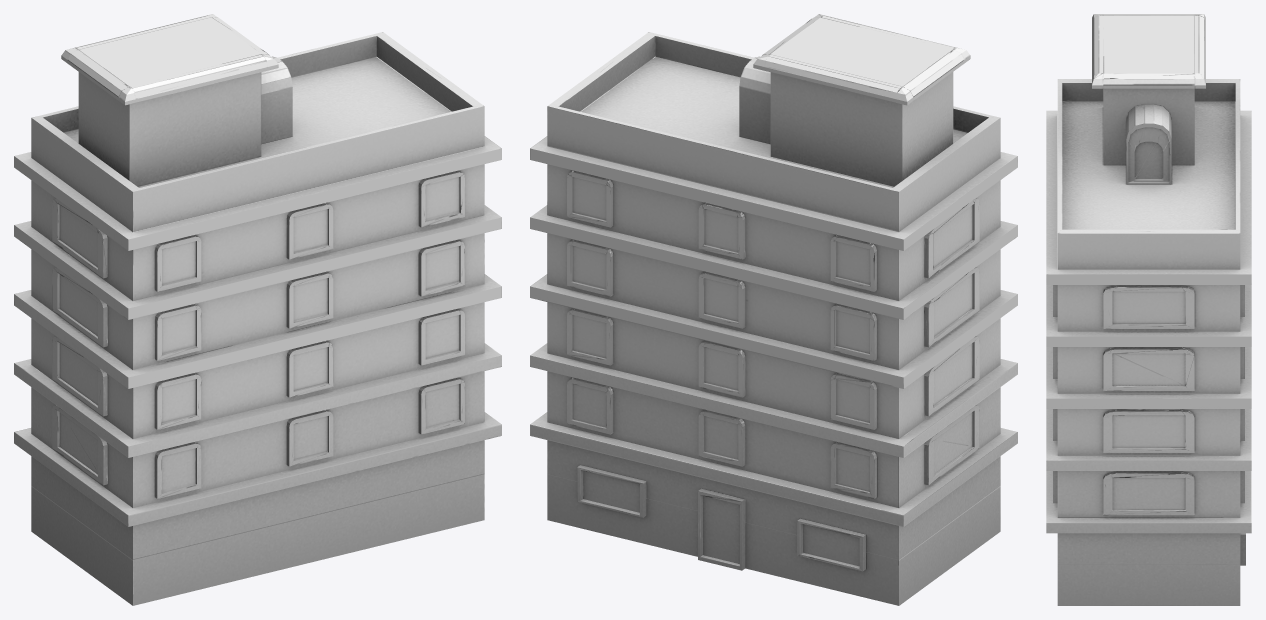
File: real-sun-building.glb
3 views of the same model, side by side, from view 1: azimuth 30°, elevation 25°; view 2: azimuth 150°, elevation 25°; view 3: azimuth 270°, elevation 25° (orthographic). The views are drawn at different scales.
Parts seen in each view (by area): view 1: BuildingA_Baked; view 2: BuildingA_Baked; view 3: BuildingA_Baked.
Boxes of the visible parts, x1,y1,x2,y2 form: BuildingA_Baked: (14, 14, 501, 605); BuildingA_Baked: (530, 14, 1017, 605); BuildingA_Baked: (1046, 14, 1251, 605).
Size of what is drawn, in the model's own units: 17 by 21.54 by 9.
Materials: 1 (1 with a texture image).
